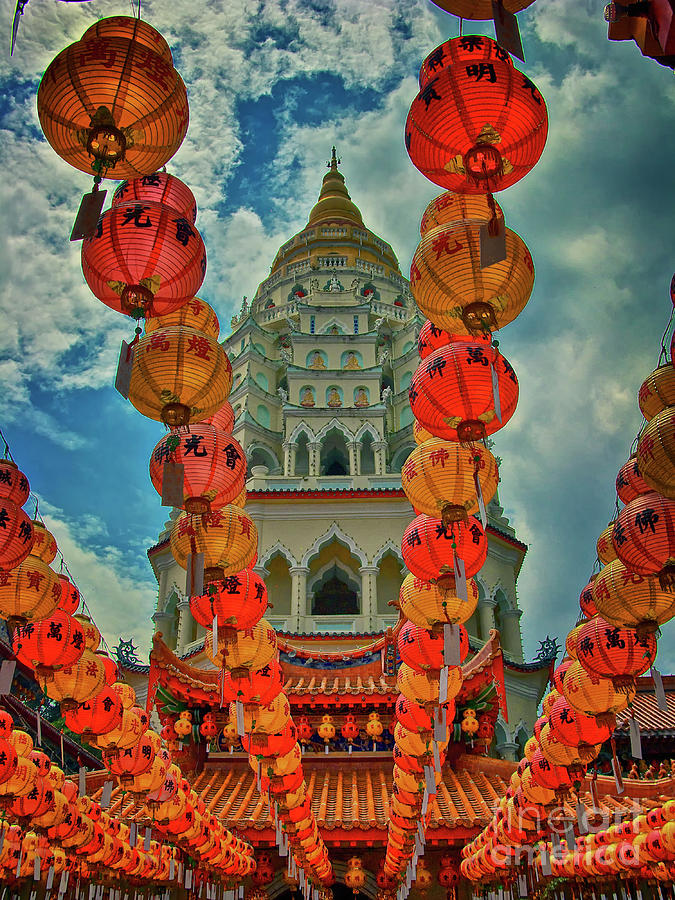Buddhist Temple: (162, 127, 522, 672)
